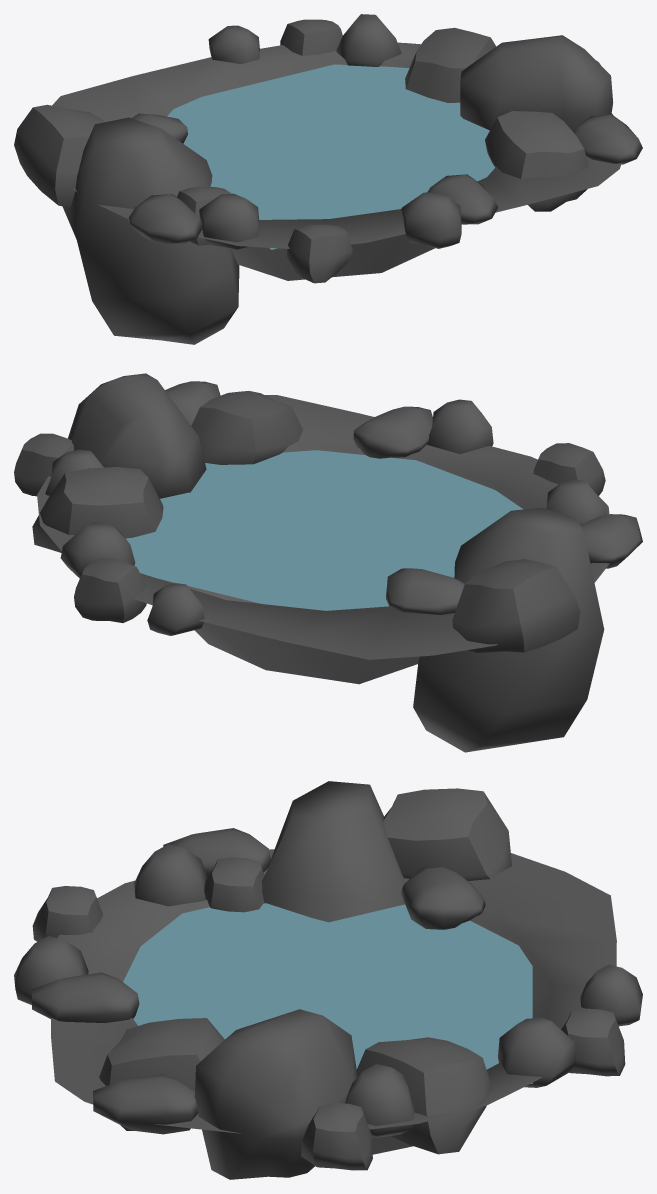
The model's file is SM_Basin.fbx.
The picture shows the model from 3 angles, top to bottom: view 1: azimuth 30°, elevation 25°; view 2: azimuth 150°, elevation 25°; view 3: azimuth 270°, elevation 25°; orthographic projection. The views are drawn at different scales.
Parts seen in each view (by area): view 1: SM_Bassin_Hiro; view 2: SM_Bassin_Hiro; view 3: SM_Bassin_Hiro.
Boxes of the visible parts, box(x1,y1,x2,y2) form: SM_Bassin_Hiro: box(14, 14, 642, 344); SM_Bassin_Hiro: box(14, 373, 642, 752); SM_Bassin_Hiro: box(14, 781, 642, 1179).
Size of the model in its own units: 281 by 113 by 235.
